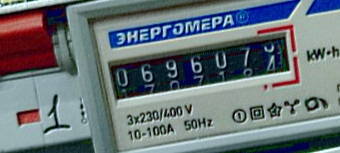0: (213, 47, 231, 71), (114, 65, 131, 88)
4: (264, 52, 280, 75)
6: (139, 60, 156, 83), (188, 53, 205, 74)
7: (238, 45, 256, 68)
9: (164, 57, 180, 79)
screen: (95, 21, 308, 112)
